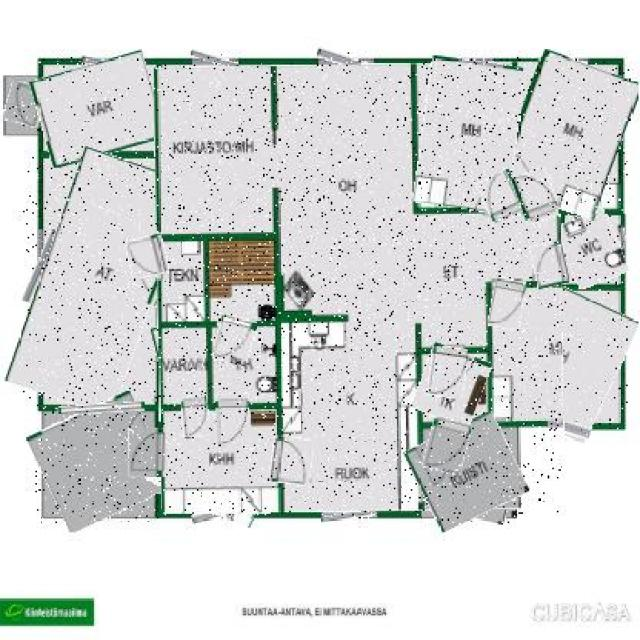door: (425, 418, 469, 474), (515, 169, 557, 223), (480, 170, 523, 222), (271, 437, 314, 485), (428, 346, 466, 399), (128, 429, 169, 478), (216, 316, 256, 364), (5, 83, 48, 126), (216, 395, 250, 448), (490, 278, 524, 329), (128, 235, 168, 277), (532, 242, 568, 288), (180, 397, 209, 437)
window: (29, 229, 54, 303), (317, 52, 375, 71), (57, 403, 145, 414), (543, 52, 589, 70), (546, 418, 592, 436), (191, 54, 240, 66), (320, 512, 375, 522), (192, 509, 230, 523), (82, 57, 109, 68), (446, 60, 492, 66), (618, 225, 624, 246)
zone: (157, 63, 563, 512), (23, 152, 172, 411), (482, 280, 629, 432), (508, 57, 634, 214), (34, 399, 166, 523), (154, 396, 286, 518), (417, 58, 520, 211), (36, 57, 162, 160), (411, 420, 523, 525), (414, 422, 521, 520), (209, 320, 280, 400), (417, 346, 488, 425), (211, 238, 275, 316), (153, 232, 210, 316), (562, 212, 623, 286), (155, 322, 208, 402)
